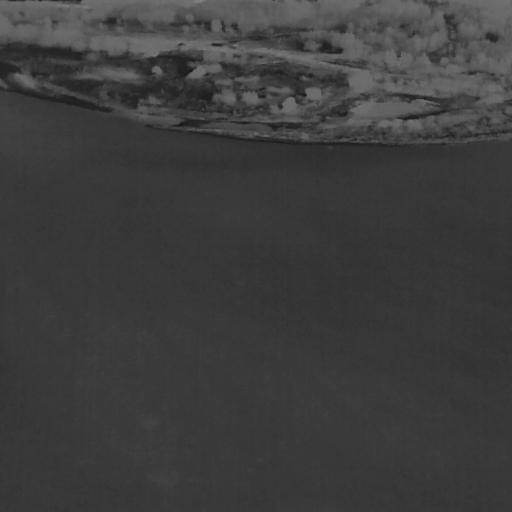uav: (346, 270, 354, 279)
